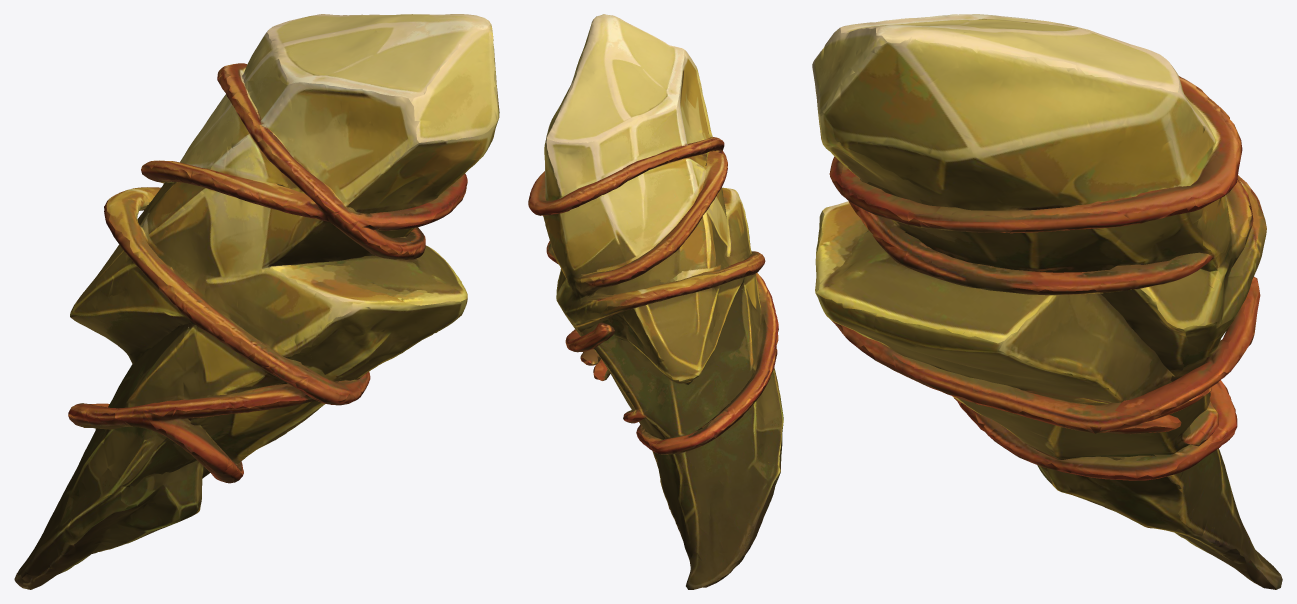
The model's file is item_charged_thunder_crystal.glb.
The picture shows the model from 3 angles, left to right: view 1: azimuth 30°, elevation 25°; view 2: azimuth 150°, elevation 25°; view 3: azimuth 270°, elevation 25°; orthographic projection. The views are drawn at different scales.
Visible parts, largest first — view 1: item_charged_thunder_crystal; view 2: item_charged_thunder_crystal; view 3: item_charged_thunder_crystal.
Part boxes in pixels (box(x1,y1,x2,y2)): item_charged_thunder_crystal: box(14, 14, 499, 589); item_charged_thunder_crystal: box(528, 14, 783, 589); item_charged_thunder_crystal: box(812, 14, 1282, 589).
Size of the model in its own units: 0.0953 by 0.16 by 0.0949.
1 material, 1 textured.
